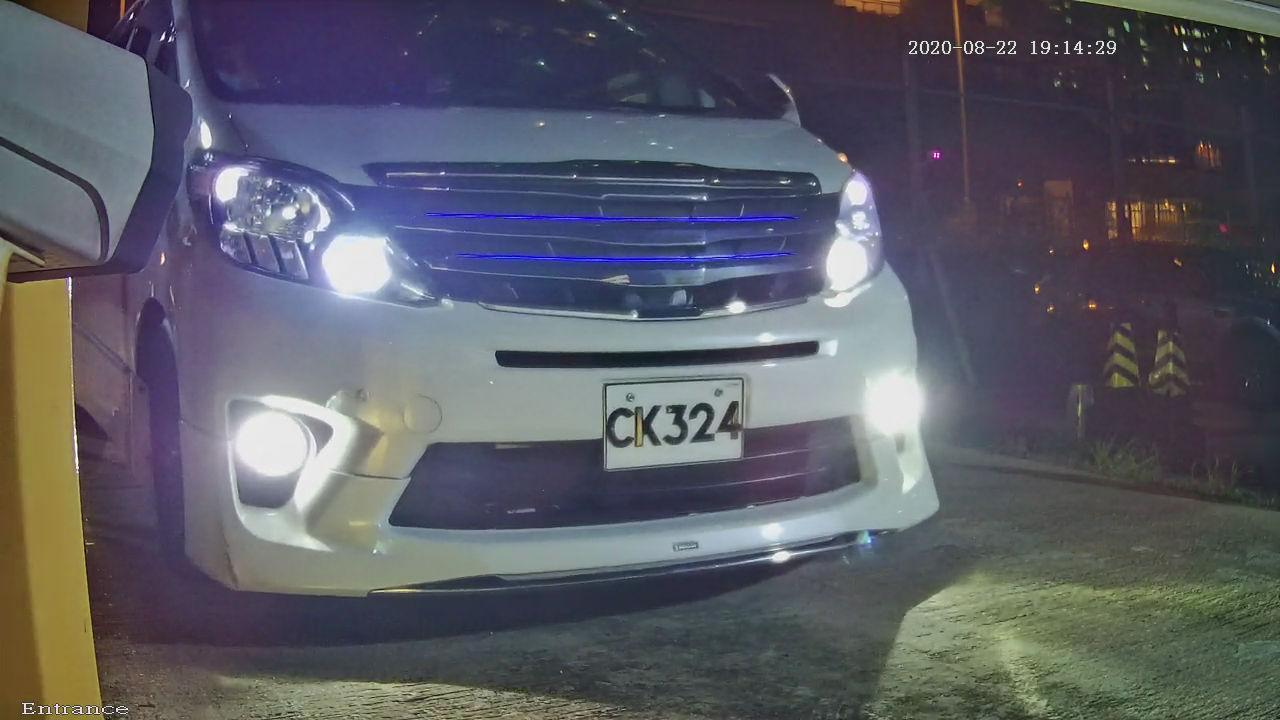Car: (63, 7, 978, 653)
License Plate: (561, 352, 782, 490)
